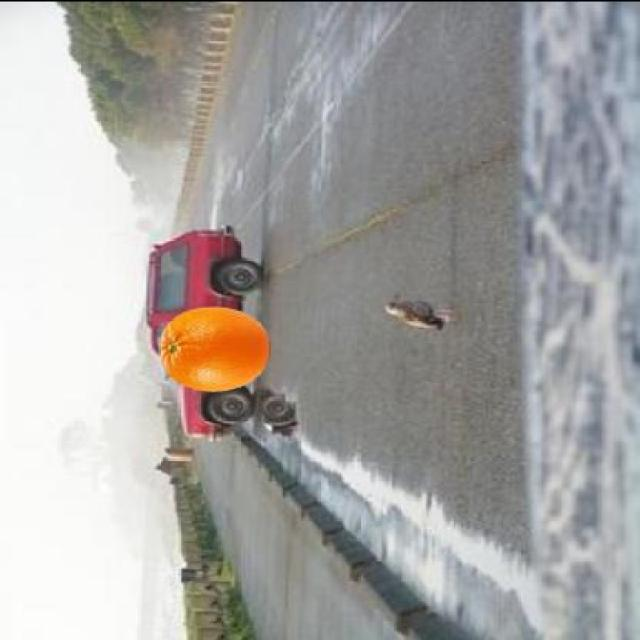Orange: (157, 305, 271, 392)
